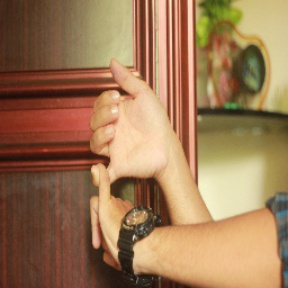S: (74, 55, 173, 277)
